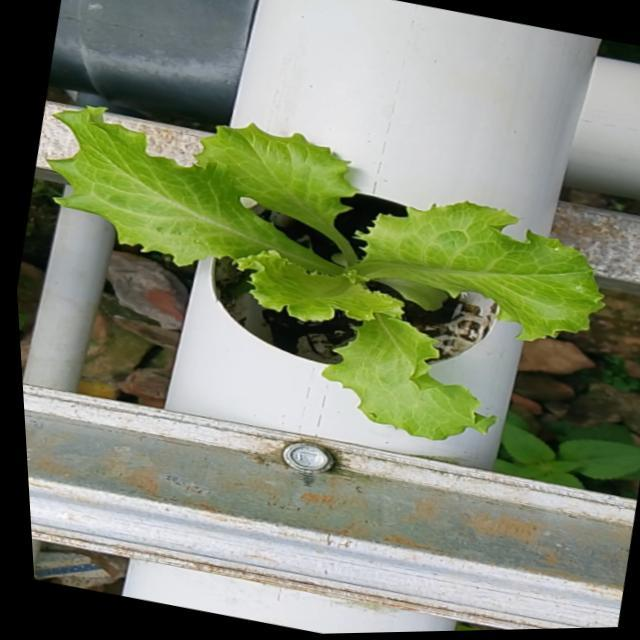Baby: (49, 104, 607, 438)
